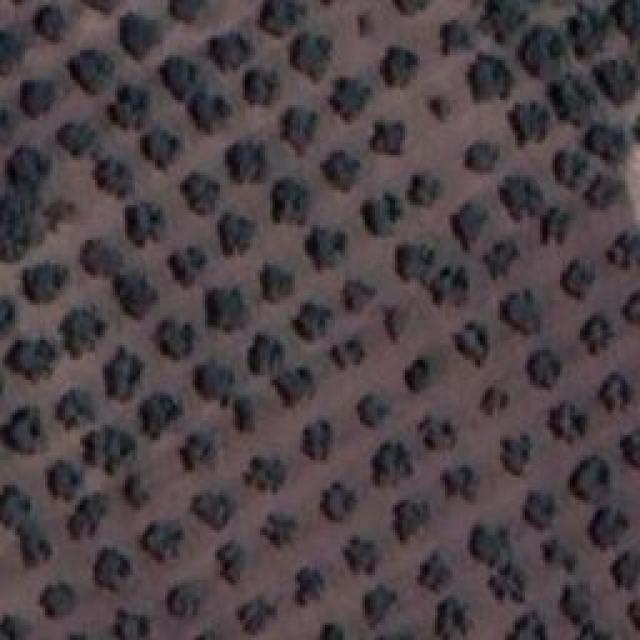Tree: (523, 13, 569, 74), (2, 192, 42, 258), (180, 165, 231, 213), (63, 45, 111, 95), (320, 330, 366, 382), (570, 5, 616, 56), (115, 268, 159, 321), (200, 283, 253, 327), (523, 488, 570, 537), (113, 10, 163, 56), (60, 308, 106, 358), (457, 200, 496, 258), (562, 255, 605, 307), (85, 425, 131, 473), (3, 145, 52, 190), (70, 488, 115, 537), (8, 332, 59, 375), (390, 498, 431, 551), (250, 258, 298, 303), (75, 232, 126, 274), (360, 190, 413, 230), (330, 73, 375, 120), (270, 360, 317, 404), (120, 200, 171, 240), (213, 210, 259, 254), (497, 170, 541, 216), (38, 455, 82, 501), (433, 15, 478, 59), (155, 315, 199, 360), (175, 432, 220, 476), (470, 55, 513, 101), (240, 63, 282, 110), (180, 93, 233, 130), (381, 43, 418, 96), (32, 5, 76, 49), (205, 25, 250, 68), (580, 167, 625, 210), (465, 522, 512, 563), (288, 30, 332, 73), (137, 393, 179, 438), (550, 75, 596, 116), (25, 255, 66, 301), (232, 133, 272, 180), (270, 175, 308, 224), (102, 350, 140, 399), (15, 520, 53, 569), (475, 0, 525, 37), (445, 460, 487, 504), (5, 403, 46, 448), (57, 390, 98, 435), (500, 288, 540, 334), (50, 113, 99, 150), (165, 247, 208, 289), (417, 417, 459, 460), (113, 87, 157, 128), (247, 330, 289, 372), (367, 112, 410, 153), (567, 452, 608, 495), (587, 508, 627, 552), (455, 325, 492, 372), (600, 58, 640, 101), (148, 517, 188, 560), (510, 95, 547, 141), (245, 455, 286, 496), (420, 550, 460, 592), (277, 112, 320, 151), (435, 270, 478, 309), (192, 362, 235, 401), (600, 370, 639, 413), (167, 577, 206, 618), (392, 242, 430, 284), (345, 532, 381, 576), (240, 592, 277, 634), (525, 351, 561, 394), (215, 543, 250, 587), (488, 563, 523, 607), (498, 613, 555, 640), (144, 130, 178, 175), (552, 145, 590, 185), (35, 582, 73, 622), (430, 600, 468, 640), (420, 87, 455, 130), (593, 117, 627, 161), (324, 482, 358, 526), (257, 512, 296, 550), (483, 238, 520, 278), (87, 550, 125, 588), (360, 575, 398, 613), (0, 485, 37, 524), (377, 300, 416, 337), (407, 170, 447, 206), (368, 442, 403, 483), (537, 535, 578, 570), (228, 392, 262, 434), (326, 147, 358, 191), (22, 75, 61, 111), (548, 397, 582, 438), (298, 417, 331, 459), (341, 275, 378, 312), (578, 317, 613, 356), (0, 30, 27, 79), (295, 305, 332, 340), (475, 383, 512, 418), (305, 225, 342, 259), (563, 615, 613, 640), (98, 160, 134, 194), (120, 472, 152, 510), (255, 0, 294, 31), (358, 395, 390, 431), (498, 435, 530, 471), (613, 227, 640, 269), (615, 0, 640, 45), (468, 140, 501, 173), (157, 55, 195, 83), (193, 495, 225, 528), (540, 206, 569, 240), (620, 592, 640, 640), (290, 563, 316, 598), (118, 615, 151, 640), (622, 428, 640, 473), (620, 288, 640, 323), (405, 360, 428, 390), (563, 583, 590, 608), (315, 618, 345, 640), (0, 299, 13, 340)
